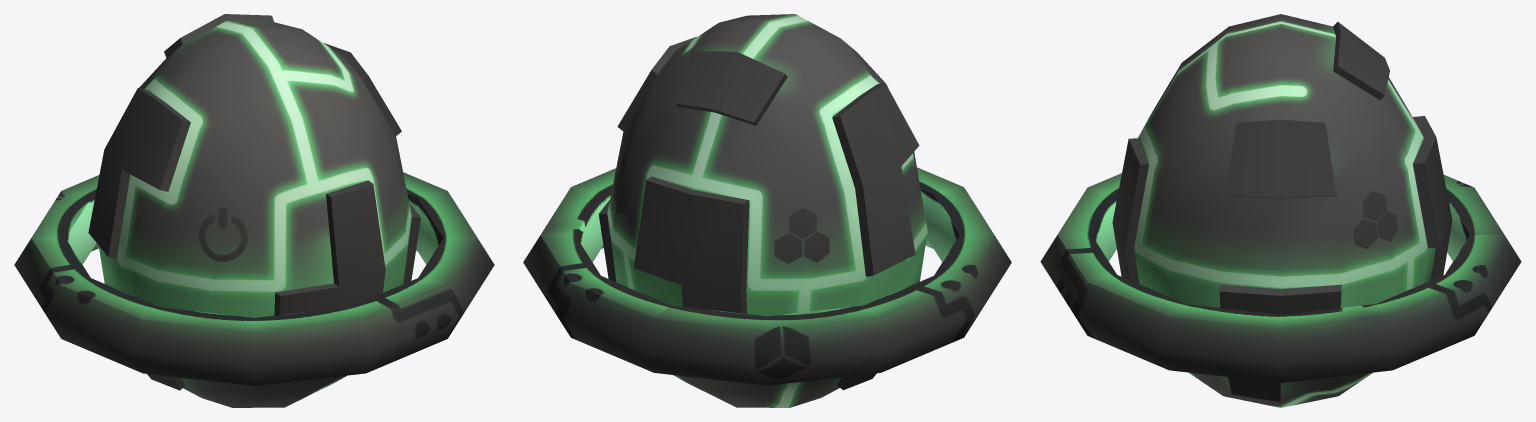
Rendered from Egg3-Matrix-Map5.fbx.
The picture shows the model from 3 angles, left to right: view 1: azimuth 30°, elevation 25°; view 2: azimuth 150°, elevation 25°; view 3: azimuth 270°, elevation 25°; orthographic projection.
Visible parts, largest first — view 1: Egg3-Matrix-Map5; view 2: Egg3-Matrix-Map5; view 3: Egg3-Matrix-Map5.
Part boxes in pixels (x1,y1,x2,y2): Egg3-Matrix-Map5: (14, 14, 494, 407); Egg3-Matrix-Map5: (523, 14, 1011, 407); Egg3-Matrix-Map5: (1040, 14, 1521, 407).
Bounding box in the file's own units: 523 × 444 × 523.
